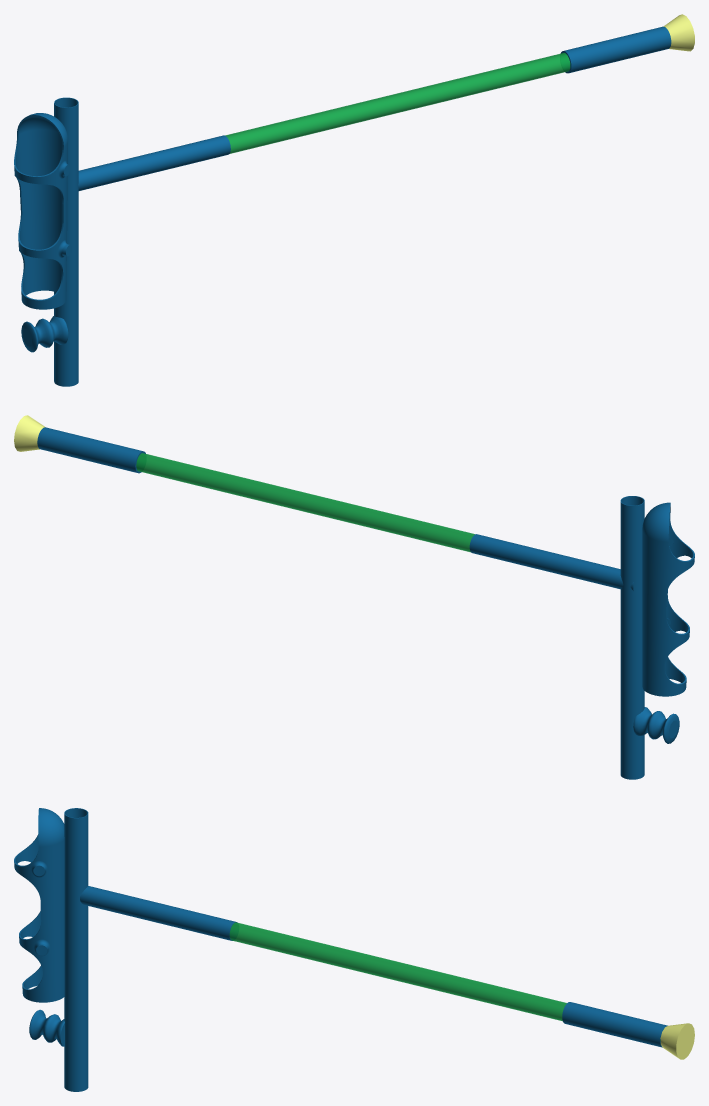
File: inter_iit.obj
3 views of the same model, one above another, from view 1: azimuth 30°, elevation 25°; view 2: azimuth 150°, elevation 25°; view 3: azimuth 330°, elevation 25° (orthographic).
Parts seen in each view (by area): view 1: Solid2, Solid1:1, Solid2:1, Solid1:3, Solid1, Solid1:4, Solid1:2; view 2: Solid2, Solid1:1, Solid2:1, Solid1:3, Solid1, Solid1:4, Solid1:2; view 3: Solid2:1, Solid2, Solid1:1, Solid1:3, Solid1, Solid1:2, Solid1:4.
Boxes of the visible parts, x1,y1,x2,y2 form: Solid2: (14, 113, 71, 309); Solid1:1: (225, 53, 570, 153); Solid2:1: (54, 97, 78, 386); Solid1:3: (78, 135, 230, 190); Solid1: (560, 26, 671, 73); Solid1:4: (21, 316, 68, 352); Solid1:2: (663, 14, 694, 51); Solid2: (642, 502, 694, 696); Solid1:1: (136, 453, 474, 552); Solid2:1: (620, 496, 644, 779); Solid1:3: (469, 534, 633, 590); Solid1: (37, 427, 145, 473); Solid1:4: (633, 707, 679, 743); Solid1:2: (14, 415, 45, 451); Solid2:1: (64, 808, 88, 1091); Solid2: (14, 808, 64, 1002); Solid1:1: (229, 922, 660, 1040); Solid1:3: (80, 886, 237, 940); Solid1: (562, 1002, 667, 1047); Solid1:2: (660, 1023, 694, 1059); Solid1:4: (29, 1009, 64, 1046).
Size of the model in its own units: 1012 by 400 by 80.63.
